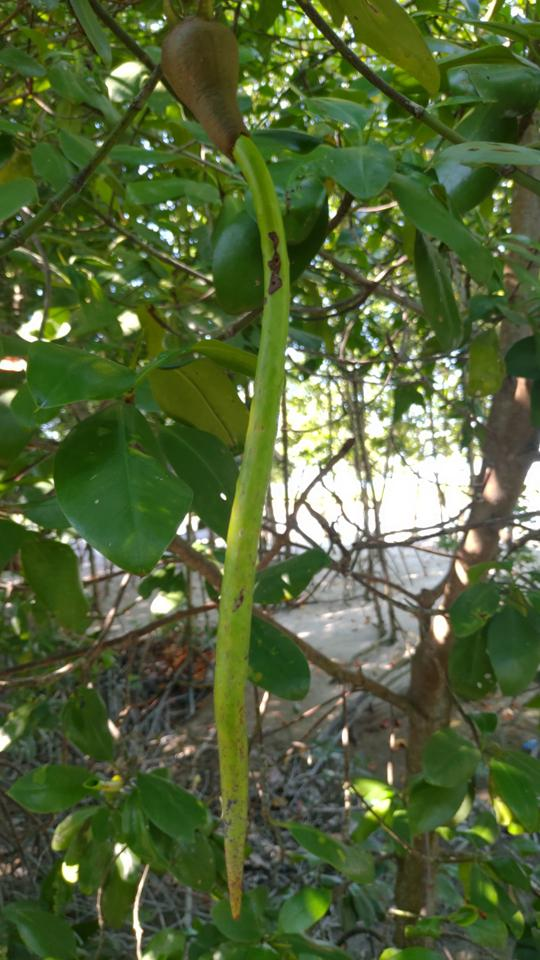mentah: (142, 1, 297, 936)
